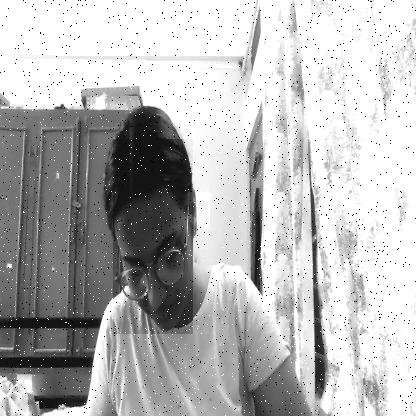Distracted: (112, 139, 192, 334)
